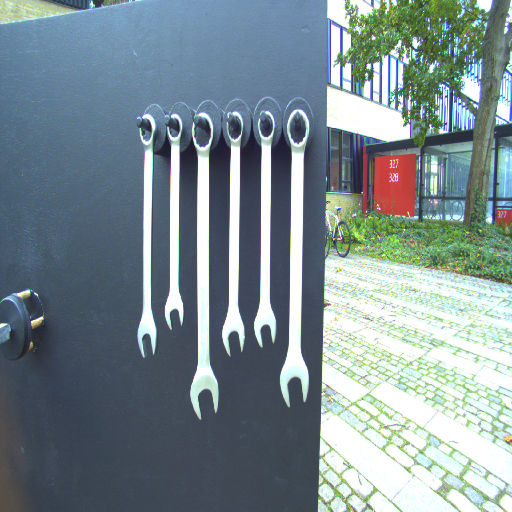bottom: (277, 357, 312, 410), (189, 366, 221, 421), (222, 310, 247, 359), (252, 304, 279, 347), (136, 312, 159, 361), (163, 292, 185, 331)
top: (285, 108, 312, 152), (190, 111, 215, 157), (222, 108, 247, 147), (137, 112, 161, 152), (164, 111, 184, 150), (255, 108, 277, 143)
